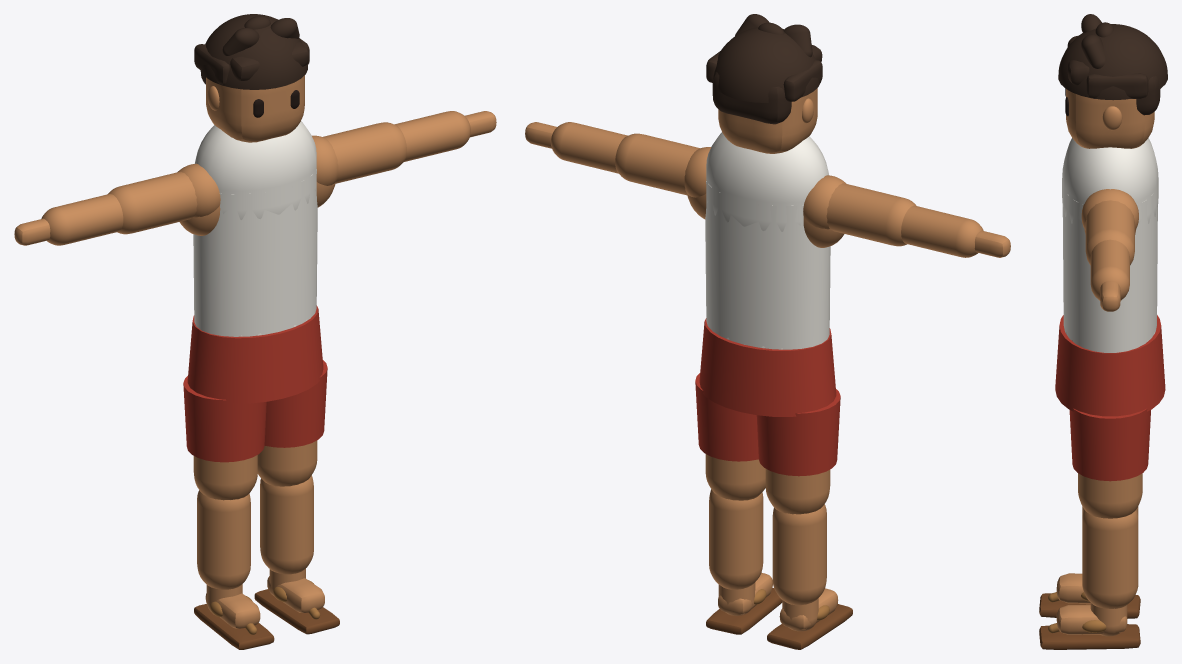
Rendered from mateo.glb.
The picture shows the model from 3 angles, left to right: view 1: azimuth 30°, elevation 25°; view 2: azimuth 150°, elevation 25°; view 3: azimuth 270°, elevation 25°; orthographic projection.
Parts seen in each view (by area): view 1: mateo_tank_body, mateo_bottom_waist, mateo_top_shoulders, mateo_bottom_leg_l, mateo_calf_l, mateo_calf_r, mateo_head, mateo_hair_cap, mateo_upperarm_l, mateo_upperarm_r, mateo_bottom_leg_r, mateo_forearm_l (+12 smaller); view 2: mateo_tank_body, mateo_bottom_waist, mateo_top_shoulders, mateo_hair_cap, mateo_bottom_leg_l, mateo_calf_l, mateo_calf_r, mateo_upperarm_l, mateo_upperarm_r, mateo_bottom_leg_r, mateo_head, mateo_forearm_l (+12 smaller); view 3: mateo_tank_body, mateo_bottom_waist, mateo_top_shoulders, mateo_bottom_leg_r, mateo_calf_r, mateo_hair_cap, mateo_head, mateo_thigh_r, mateo_upperarm_r, mateo_forearm_r, mateo_sole_r, mateo_hair_side_r (+13 smaller).
Part boxes in pixels (x1,y1,x2,y2): mateo_tank_body: (193,169,317,336); mateo_bottom_waist: (187,305,323,403); mateo_top_shoulders: (194,121,316,219); mateo_bottom_leg_l: (183,376,266,462); mateo_calf_l: (197,490,250,589); mateo_calf_r: (260,475,313,574); mateo_head: (206,75,304,142); mateo_hair_cap: (201,14,307,89); mateo_upperarm_l: (108,171,197,234); mateo_upperarm_r: (323,122,406,183); mateo_bottom_leg_r: (264,360,327,447); mateo_forearm_l: (41,194,123,245); mateo_tank_body: (705,181,830,349); mateo_bottom_waist: (699,318,836,416); mateo_top_shoulders: (706,132,828,231); mateo_hair_cap: (712,27,820,102); mateo_bottom_leg_l: (756,389,840,476); mateo_calf_l: (772,504,826,605); mateo_calf_r: (709,489,763,589); mateo_upperarm_l: (826,183,916,246); mateo_upperarm_r: (615,133,699,195); mateo_bottom_leg_r: (695,373,758,461); mateo_head: (718,88,817,153); mateo_forearm_l: (901,205,983,257); mateo_tank_body: (1062,193,1157,352); mateo_bottom_waist: (1055,315,1165,416); mateo_top_shoulders: (1062,138,1158,224); mateo_bottom_leg_r: (1069,408,1150,481); mateo_calf_r: (1082,510,1138,608); mateo_hair_cap: (1058,24,1167,100); mateo_head: (1066,89,1154,148); mateo_thigh_r: (1078,473,1142,518); mateo_upperarm_r: (1085,200,1134,265); mateo_forearm_r: (1090,239,1129,300); mateo_sole_r: (1039,624,1140,649); mateo_hair_side_r: (1086,73,1148,98).
Size of the model in its own units: 1.58 by 1.89 by 0.3652.
